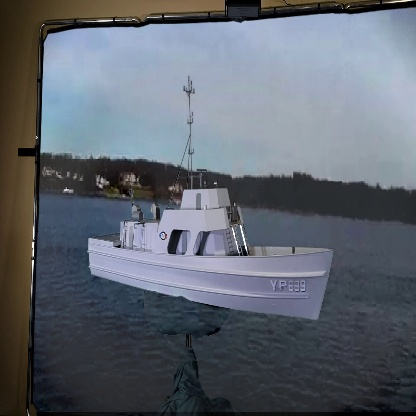YP689: (85, 72, 334, 322)
